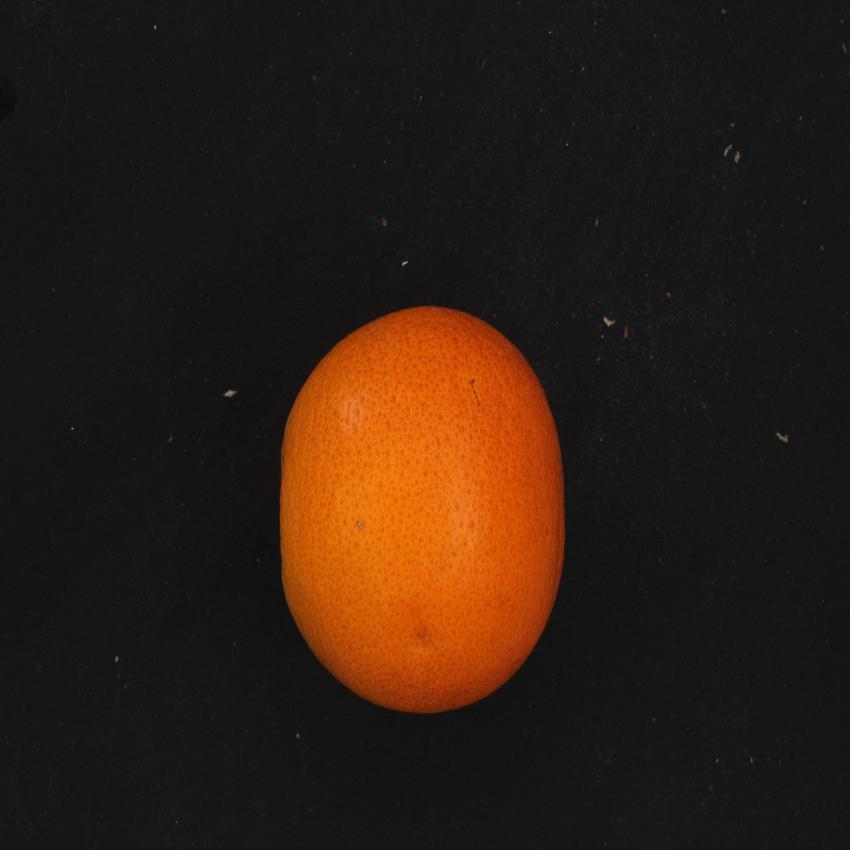Buen estado: (264, 284, 595, 731)
